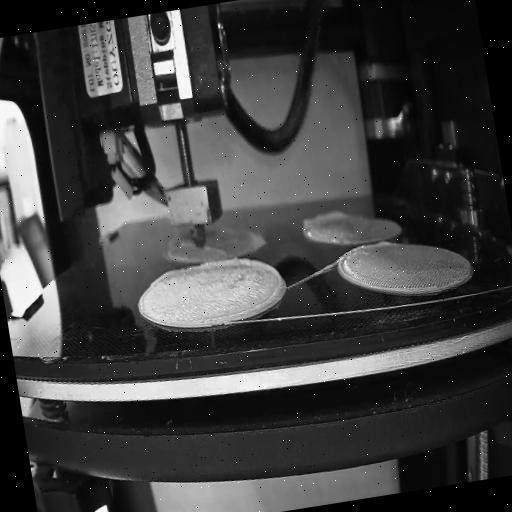over_extrusion: (200, 248, 288, 326), (298, 205, 350, 236), (148, 262, 192, 288), (206, 239, 226, 257), (374, 237, 394, 251)
